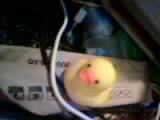duck: (49, 46, 108, 107)
